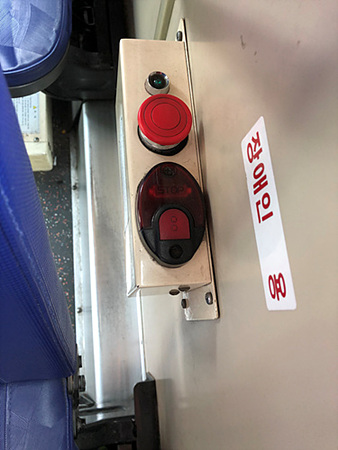bell: (136, 159, 207, 268)
